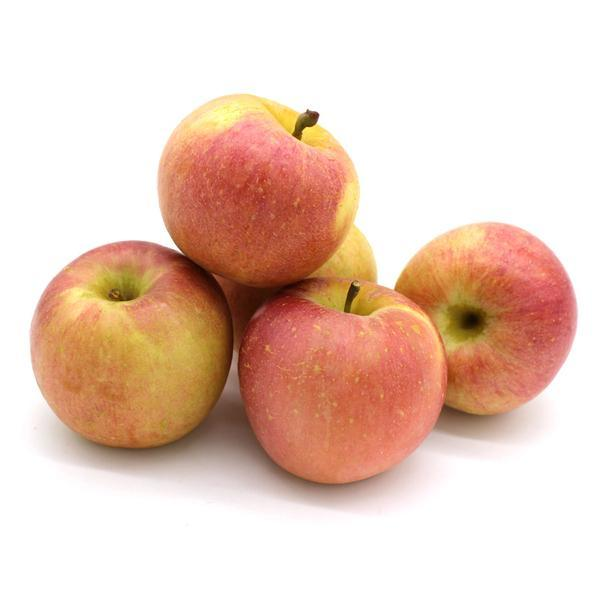apple: (28, 240, 233, 447), (249, 275, 450, 483), (155, 95, 357, 293), (391, 219, 575, 418)
